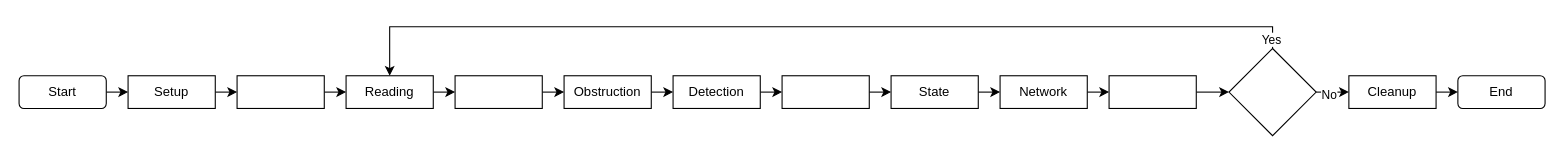
Some shapes in this 1564 by 155 pixel diagram are drawn without their labels. The shapes that lost their labels are listed below. From the top down, each one's centre as x and y in pixels, then its label:
At [280,91]: "Calibration".
At [498,91]: "Correction".
At [825,91]: "Filter".
At [1152,91]: "Draw".
At [1272,91]: "Loop?".
